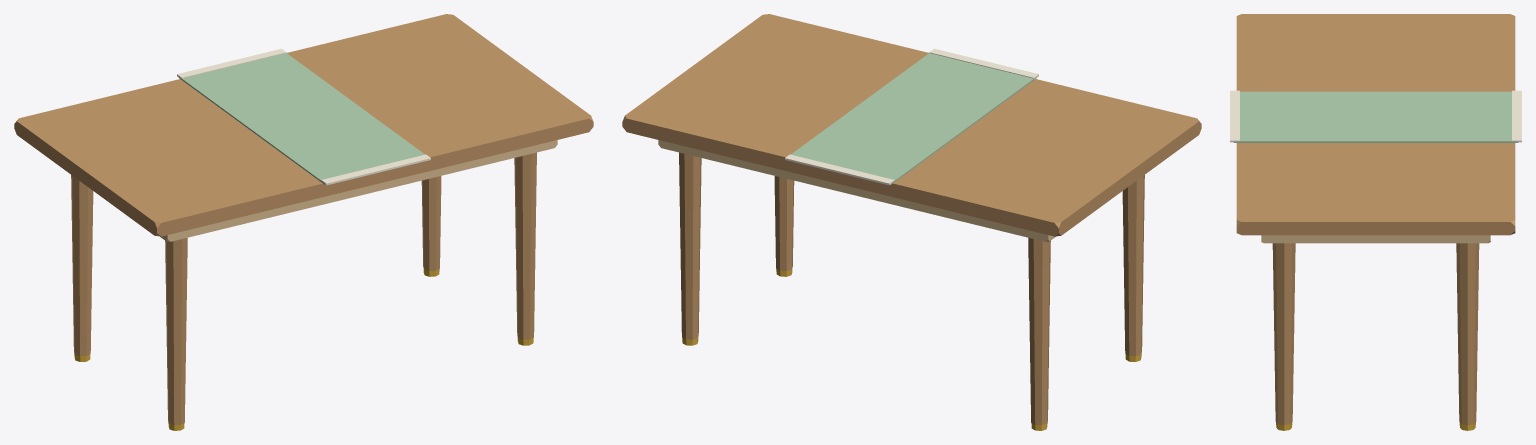
Rendered from Furniture_KitchenTable.glb.
3 views of the same model, side by side, from view 1: azimuth 30°, elevation 25°; view 2: azimuth 150°, elevation 25°; view 3: azimuth 270°, elevation 25° (orthographic). The views are drawn at different scales.
Parts seen in each view (by area): view 1: Furniture_KitchenTable; view 2: Furniture_KitchenTable; view 3: Furniture_KitchenTable.
Boxes of the visible parts, x1=… form: Furniture_KitchenTable: x1=14, y1=14, x2=593, y2=430; Furniture_KitchenTable: x1=622, y1=14, x2=1201, y2=430; Furniture_KitchenTable: x1=1230, y1=14, x2=1521, y2=430.
Bounding box in the file's own units: 1.5 × 0.77 × 0.89.
